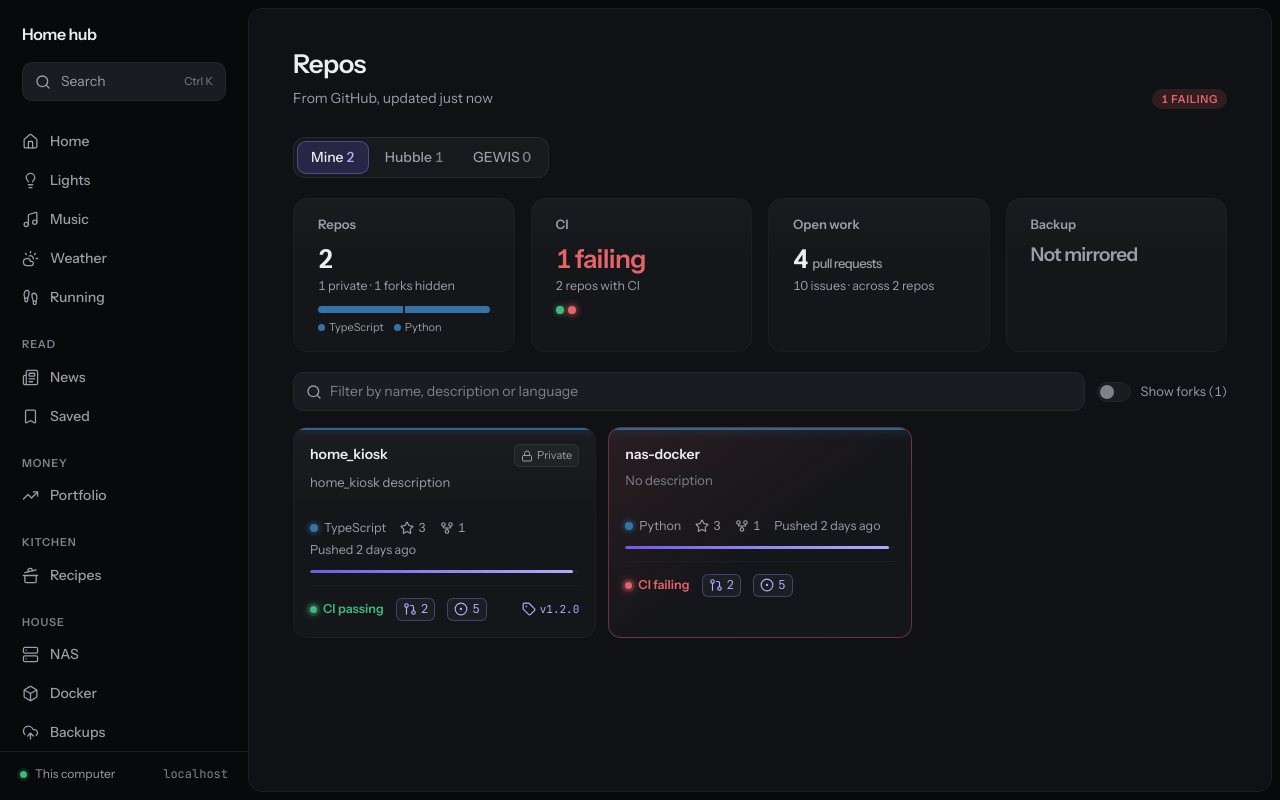
Scenario: ReposPage › sums up the owner in four tiles, with failing builds across every tab in the header pill
This screenshot has width=1280, height=800.
Expected: the list items read "TypeScript", "Python", in this order, top-left (318, 319), bottom-right (384, 335); top-left (394, 319), bottom-right (442, 335)
Expected: the element "CI" shows "1 failing", top-left (556, 242), bottom-right (646, 274)
What coordinates should you click on to do the following:
click the tab "Hubble 1"
I would click on:
 (414, 158)
Its box is top-left (371, 141), bottom-right (457, 174).
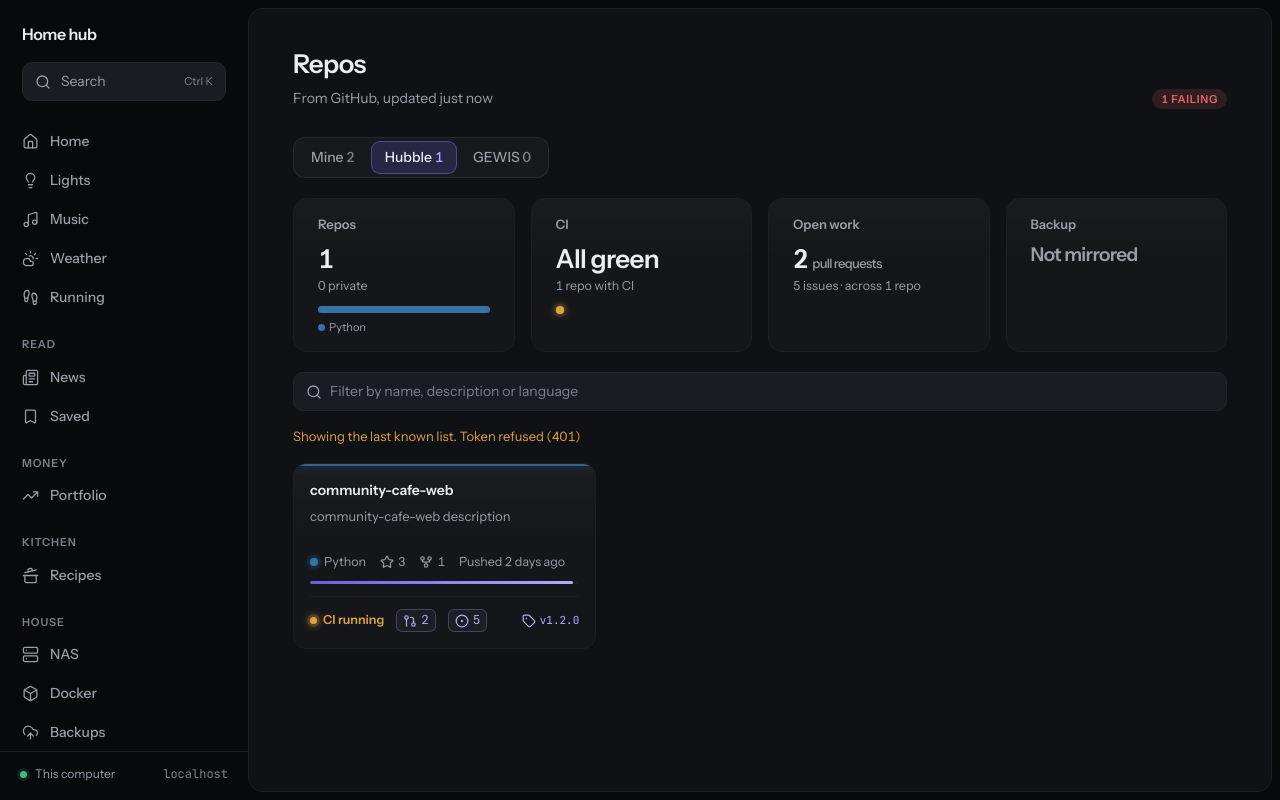
Expected: the text "1 failing" is shown, top-left (1152, 88), bottom-right (1227, 109)
Expected: the element "CI" shows "All green", top-left (556, 242), bottom-right (659, 274)
